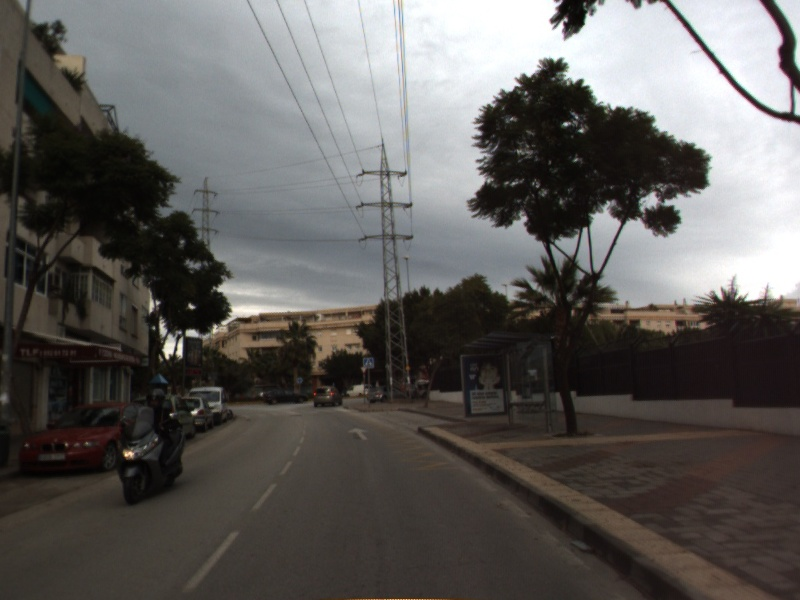STRAIGHT: (346, 426, 371, 442)
